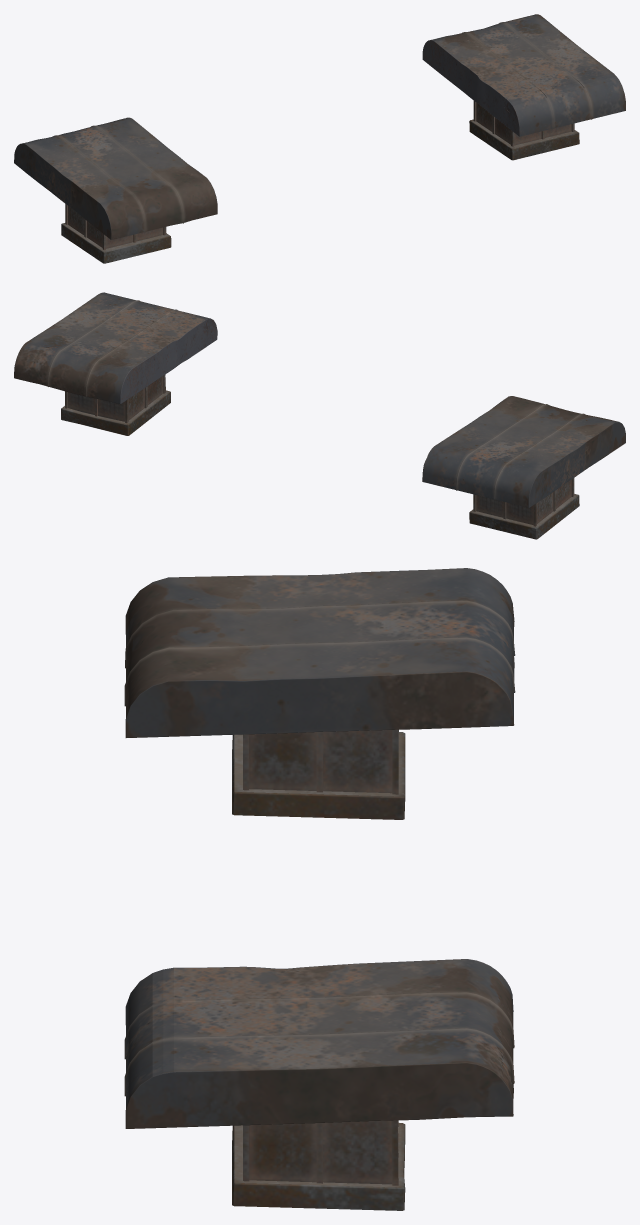
The model's file is MOD_BigWall_Chimney.FBX.
3 views of the same model, one above another, from view 1: azimuth 30°, elevation 25°; view 2: azimuth 150°, elevation 25°; view 3: azimuth 270°, elevation 25° (orthographic). The views are drawn at different scales.
Parts seen in each view (by area): view 1: MOD_BigWall_Chimney; view 2: MOD_BigWall_Chimney; view 3: MOD_BigWall_Chimney.
Boxes of the visible parts, x1=… form: MOD_BigWall_Chimney: x1=14, y1=14, x2=625, y2=263; MOD_BigWall_Chimney: x1=14, y1=292, x2=625, y2=539; MOD_BigWall_Chimney: x1=124, y1=568, x2=515, y2=1210.
Size of the model in its own units: 1355 by 220 by 444.
1 material, 1 textured.
